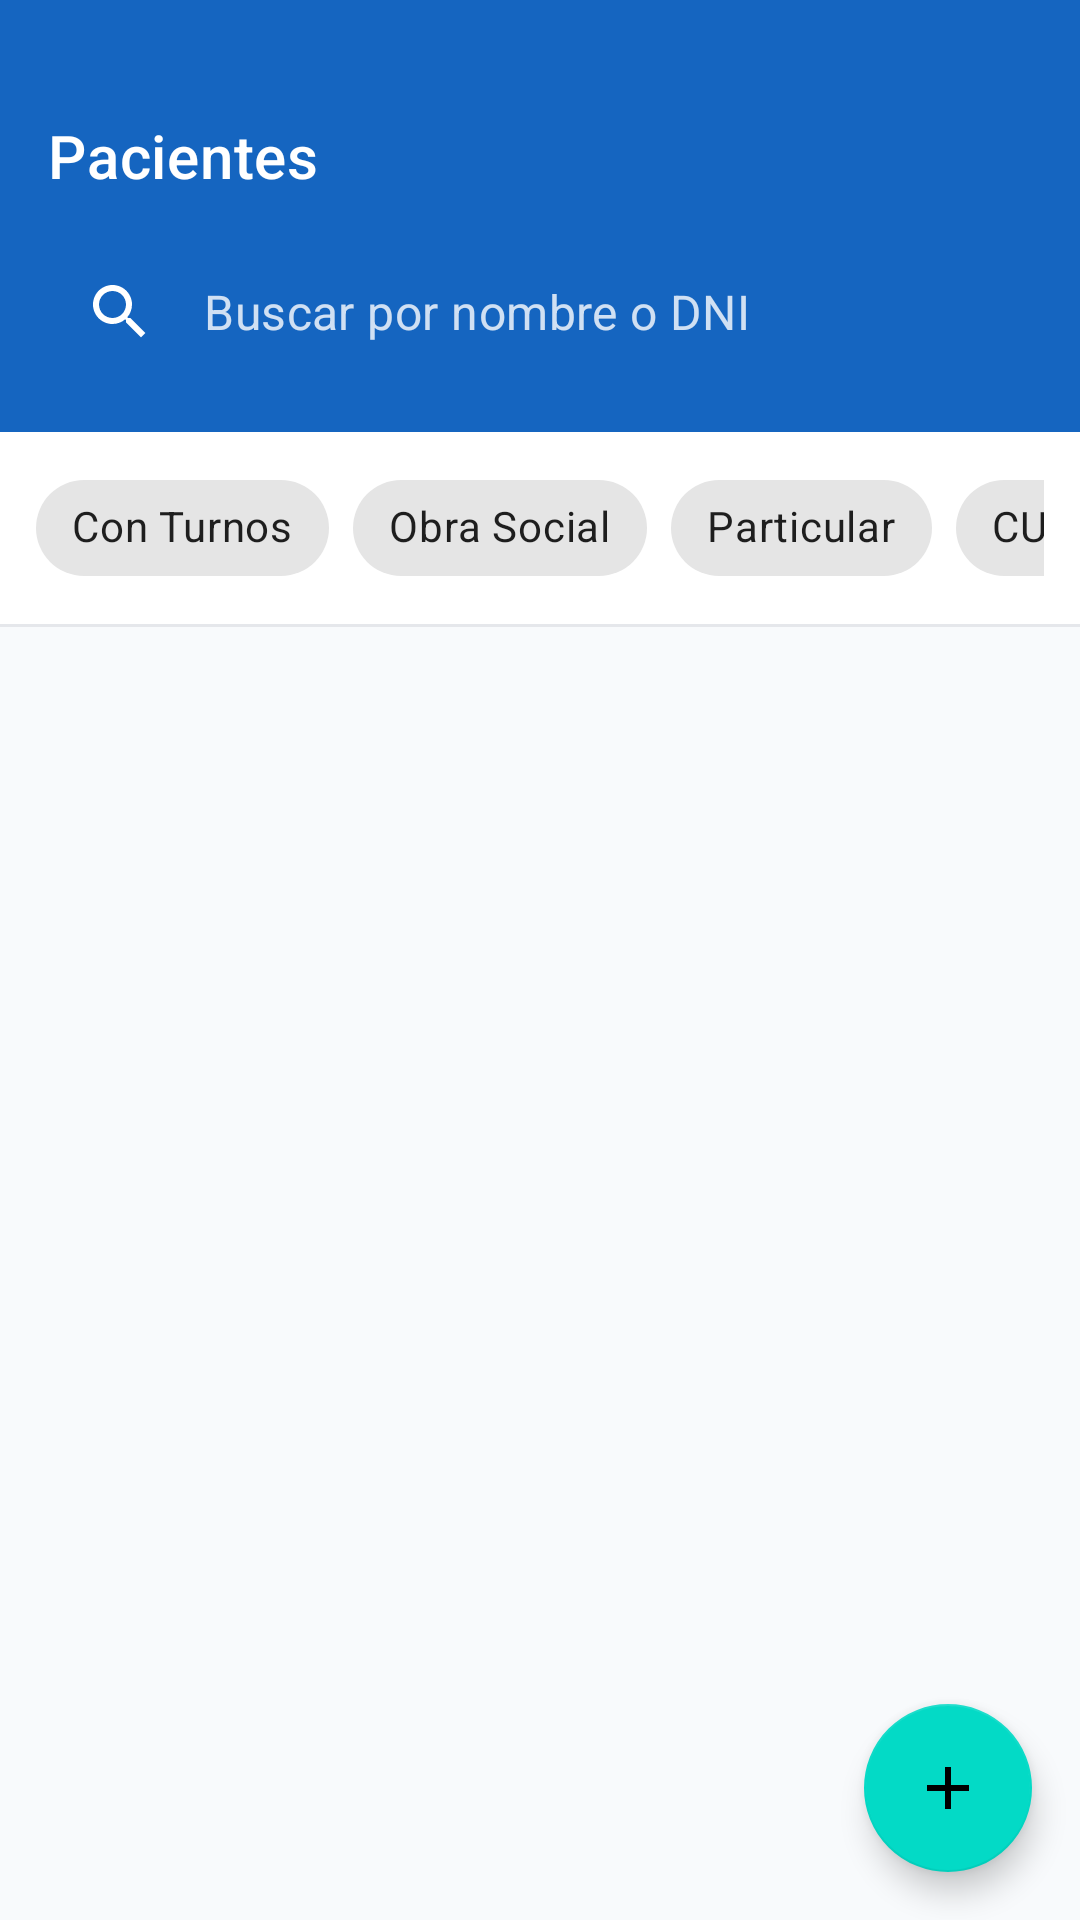

Icons on this 1080 x 1920 Android screen, each with the point to tap as (x,y):
Nuevo paciente: (948,1788)
